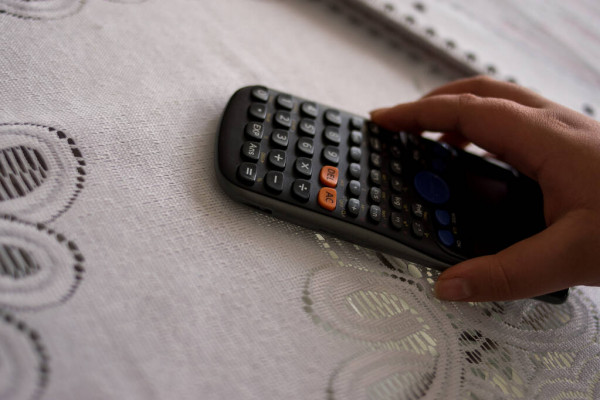Calculator: (215, 82, 573, 322)
